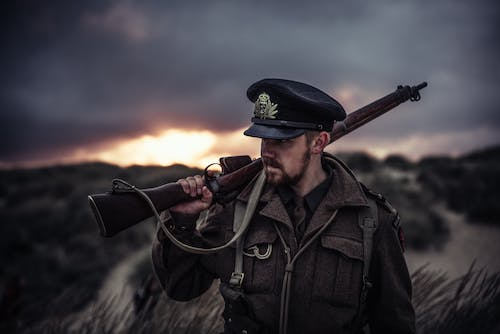gun: (84, 78, 429, 240)
